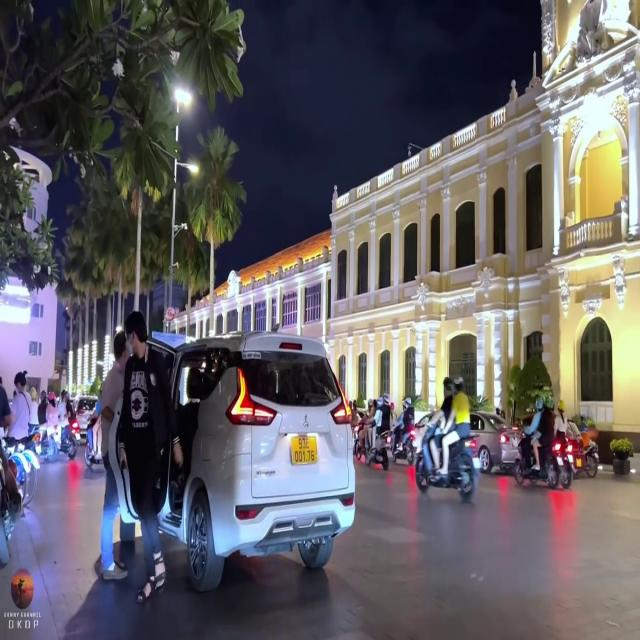bien_vang: (292, 430, 318, 463)
